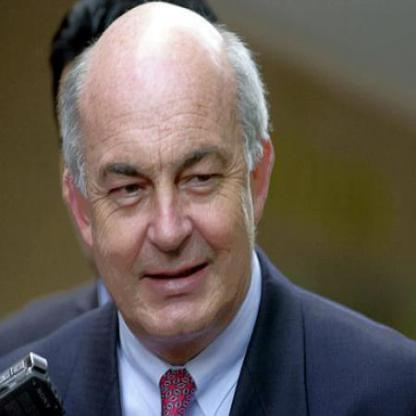face: (84, 12, 254, 353)
